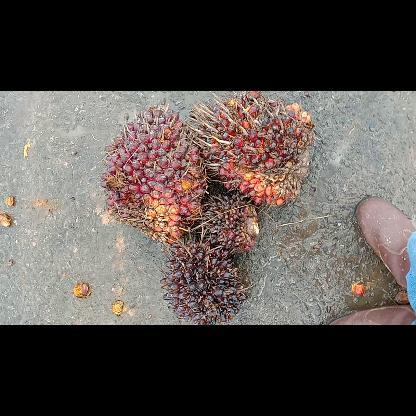TBS abnormal: (159, 234, 249, 324), (197, 191, 263, 251)
TBS masak: (98, 102, 208, 244), (184, 92, 316, 209)
